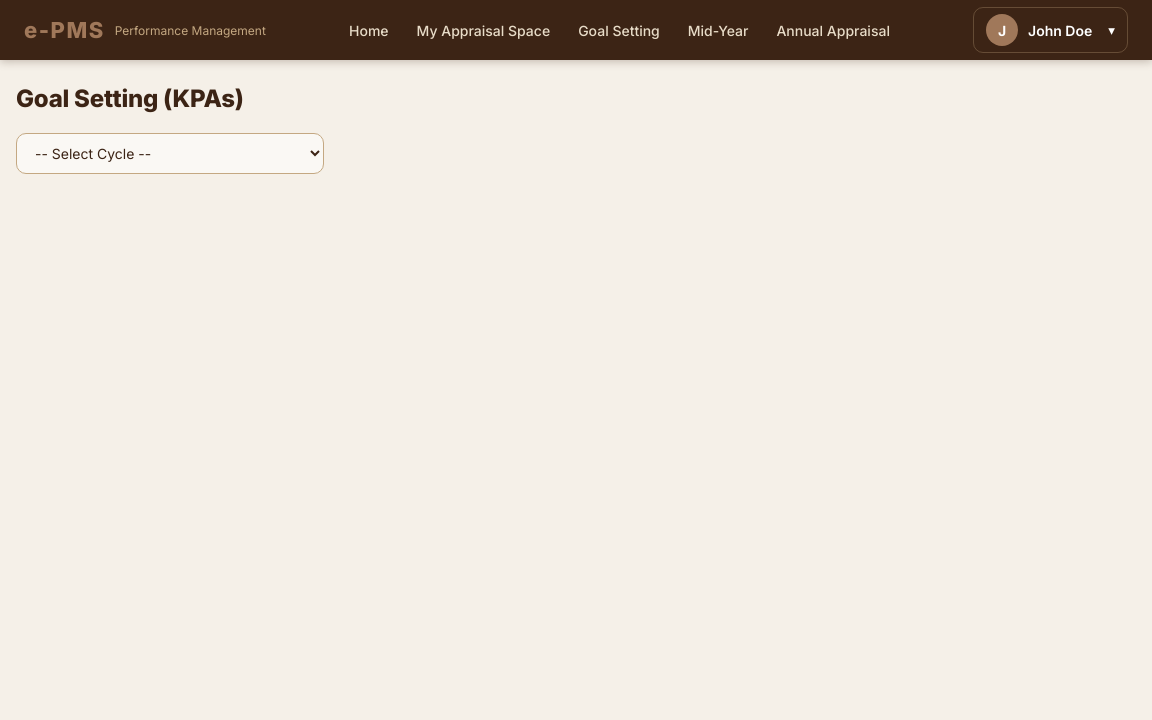
Goal Setting Page › shows Add New KPA form after cycle selection
This screenshot has width=1152, height=720.
Select "FY 2024-25 (GOAL SETTING · ACTIVE)" in the dropdown at {"x": 170, "y": 154}, box top-left (16, 133), bottom-right (324, 174)
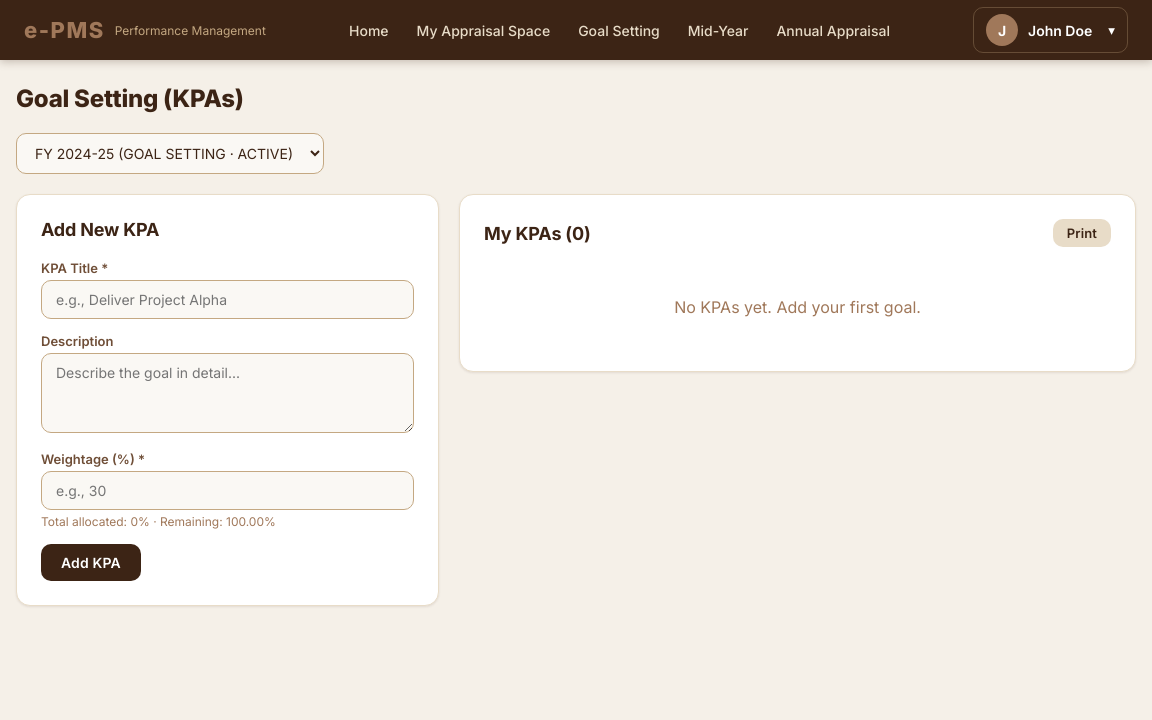
Expected: the heading "Add New KPA" is shown, top-left (41, 219), bottom-right (159, 240)
